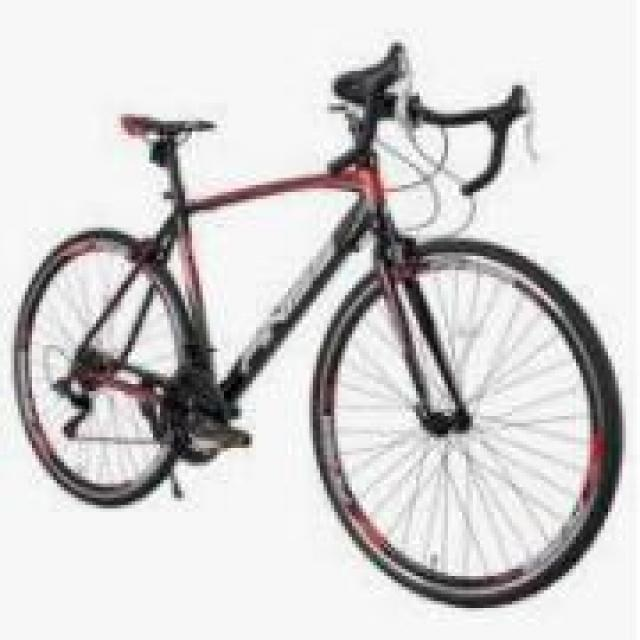bicycle: (15, 44, 613, 617)
